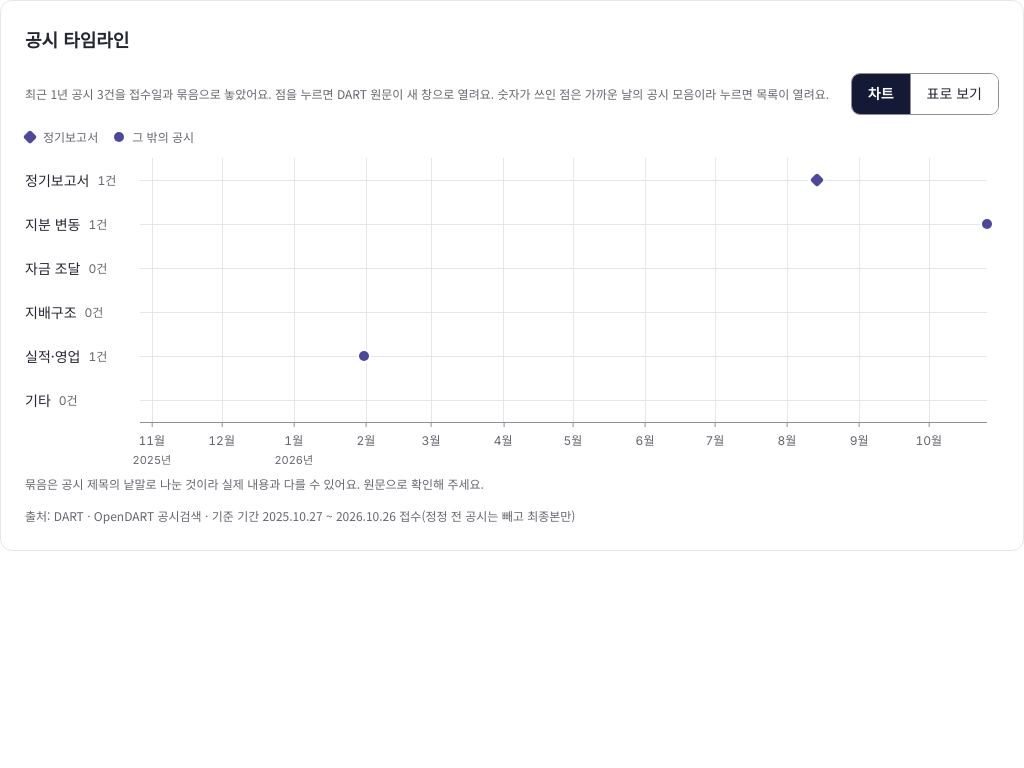
it: 공시 타임라인 차트(FS-58, #445) › 점에 포인터를 올리면 툴팁을 보이고 차트 밖으로 나가면 닫는다
Hover over the link named "연결재무제표기준" at (364,356), box [358,352,368,362]
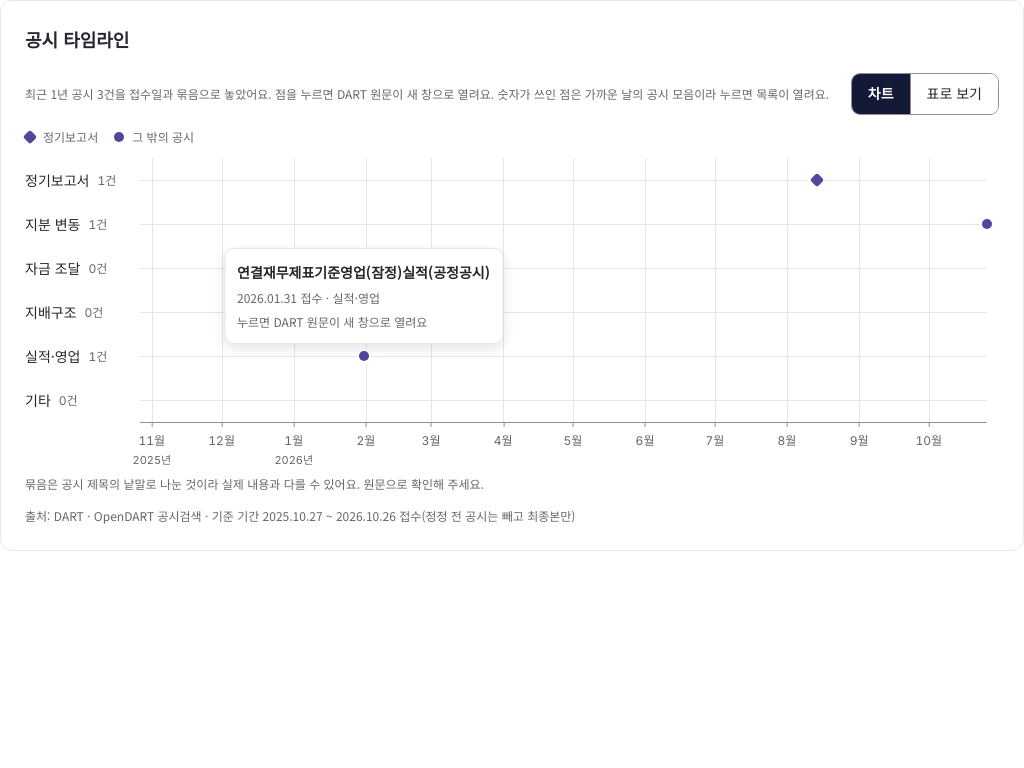
Check: the element with class "dot-timeline__tooltip" shows "2026.01.31 접수 · 실적·영업", box [224,248,503,344]
Move the pointer off the element named "최근 1년 공시 타임라인", box [25,158,999,462]
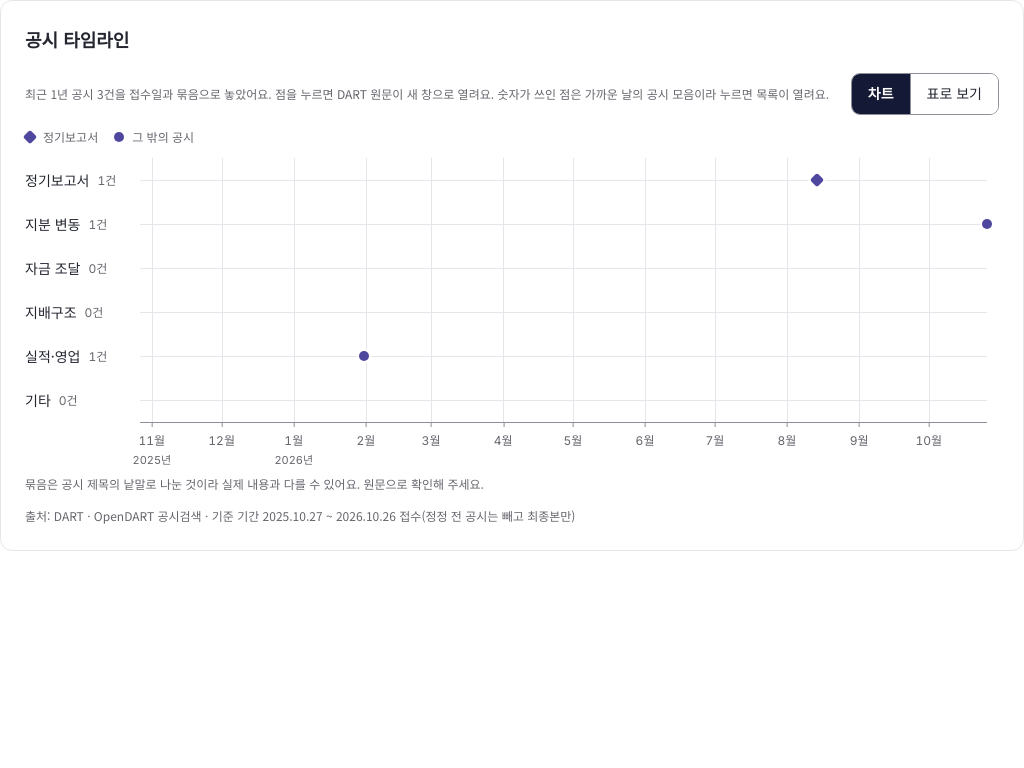
Check: the element with class "dot-timeline__tooltip" is gone
